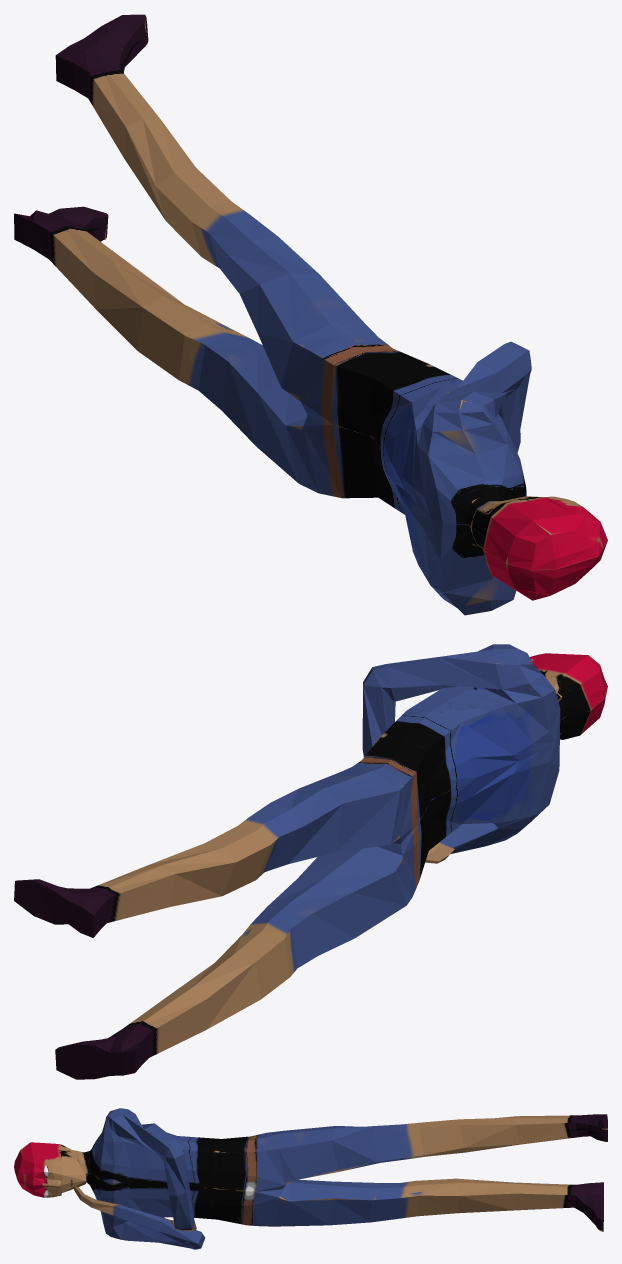
File: mirrorman_000026.obj
3 renders of one model, top to bottom at view 1: azimuth 30°, elevation 25°; view 2: azimuth 150°, elevation 25°; view 3: azimuth 270°, elevation 25°, orthographic. The views are drawn at different scales.
Parts seen in each view (by area): view 1: mirrorman_Cube.001_Material.001; view 2: mirrorman_Cube.001_Material.001; view 3: mirrorman_Cube.001_Material.001.
Part boxes in pixels (<box>): mirrorman_Cube.001_Material.001: <box>14,14,607,615</box>; mirrorman_Cube.001_Material.001: <box>14,644,607,1079</box>; mirrorman_Cube.001_Material.001: <box>14,1108,607,1249</box>.
Size of the model in its own units: 0.3449 by 0.4913 by 1.9.
Materials: 1 (1 with a texture image).
